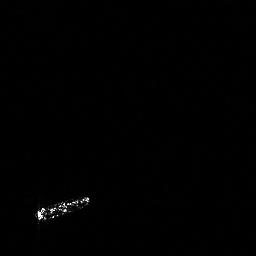ship: (33, 194, 90, 223)
